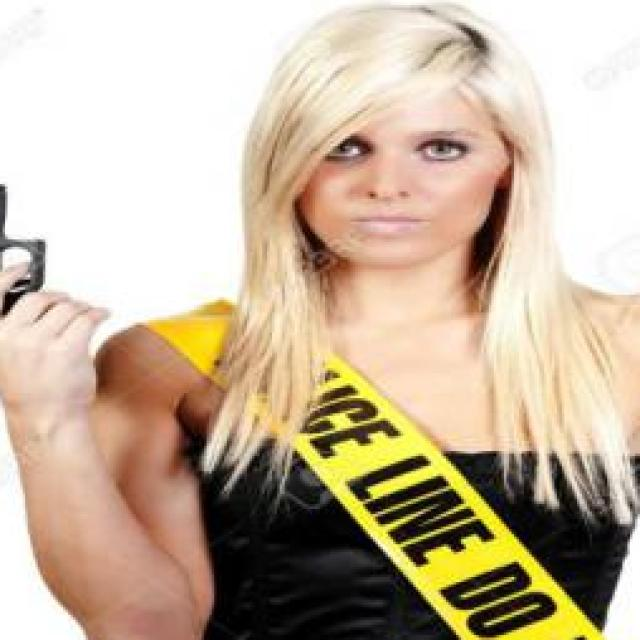pistol: (0, 174, 68, 370)
